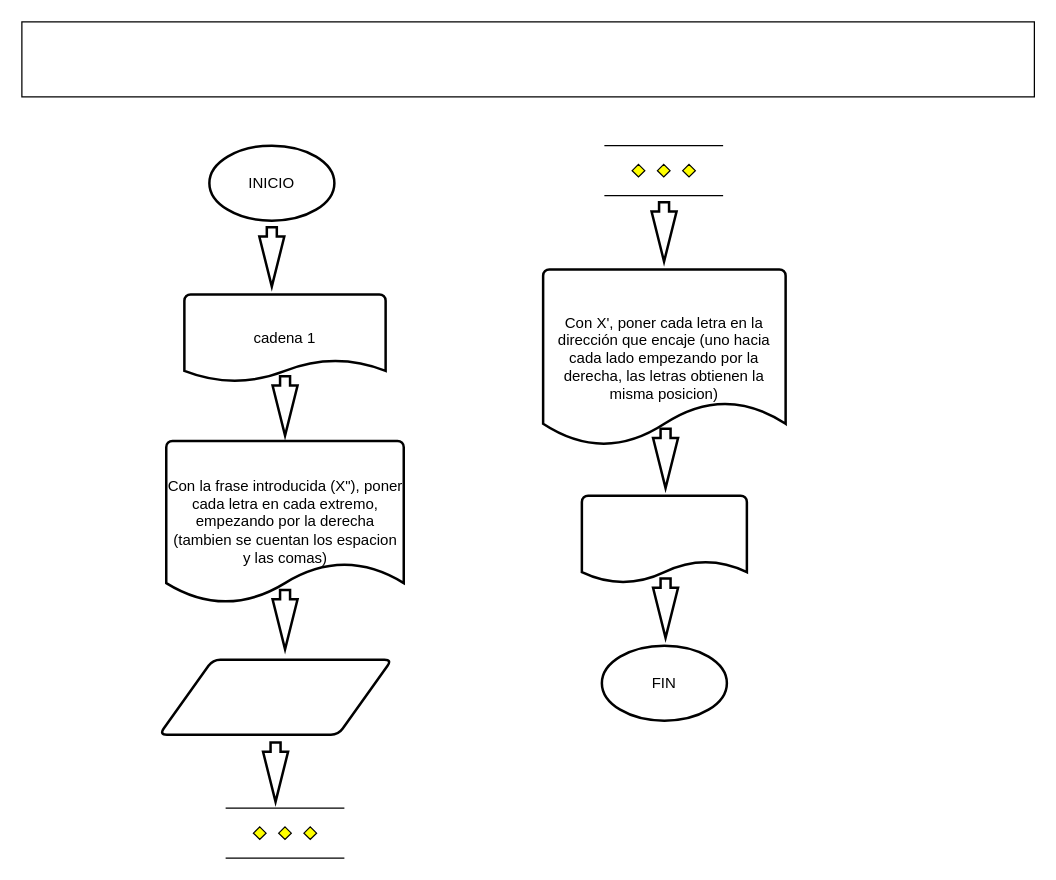
Image size: 1056x880. Some labels were removed from this diagram. Each missing label, with the box of its shape:
Cadena 1 = "Preguntar al usuario que frase va a desencriptar": (21, 21, 1034, 97)
Obtenemos la frase desencriptada (X): (580, 494, 748, 584)
Obtenemos X': (158, 658, 392, 735)
